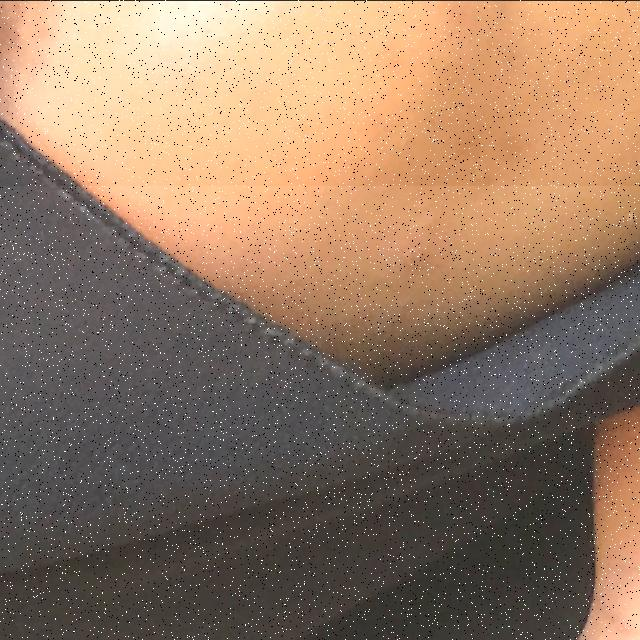mendengar: (0, 185, 640, 640)
